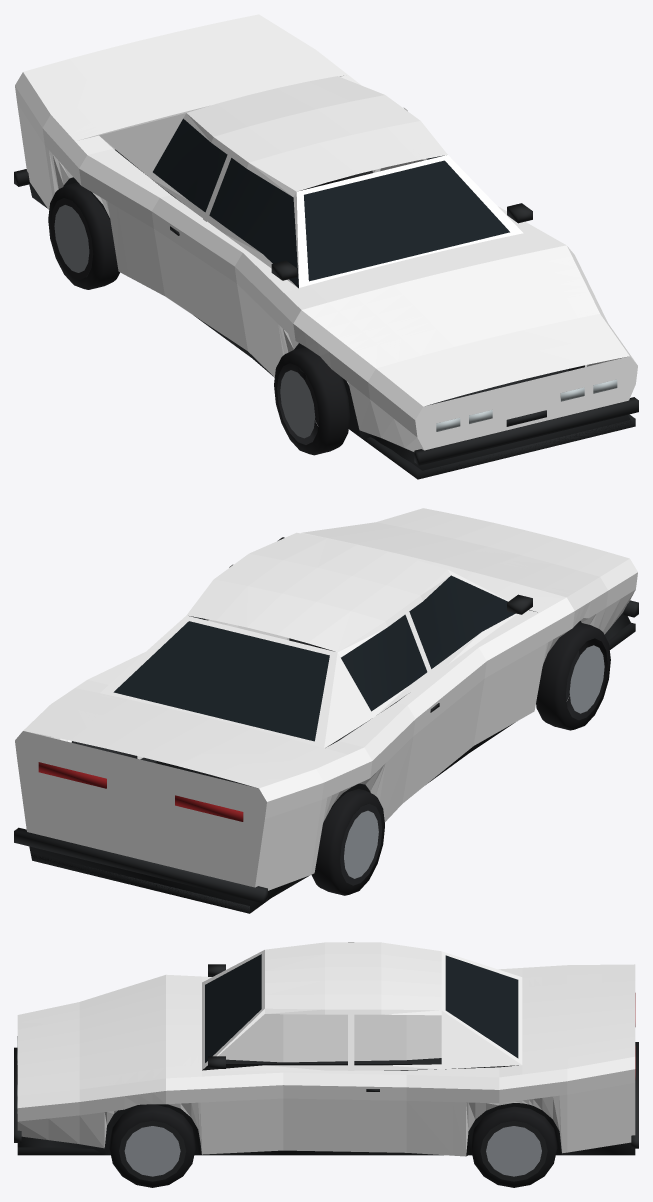
The model's file is wexmoor_carmim.glb.
3 views of the same model, one above another, from view 1: azimuth 30°, elevation 25°; view 2: azimuth 150°, elevation 25°; view 3: azimuth 270°, elevation 25° (orthographic). The views are drawn at different scales.
Visible parts, largest first — view 1: Body_Paint, Body_Details, Mount_FrontLeft_Wheel_Details, Mount_RearLeft_Wheel_Details; view 2: Body_Paint, Body_Details, Mount_FrontLeft_Wheel_Details, Mount_RearLeft_Wheel_Details; view 3: Body_Paint, Body_Details, Mount_FrontRight_Wheel_Details, Mount_RearRight_Wheel_Details.
Boxes of the visible parts, bbox=[...] form: Body_Paint: bbox=[15, 14, 637, 451]; Body_Details: bbox=[14, 118, 638, 479]; Mount_FrontLeft_Wheel_Details: bbox=[274, 347, 350, 455]; Mount_RearLeft_Wheel_Details: bbox=[48, 182, 119, 289]; Body_Paint: bbox=[15, 508, 637, 890]; Body_Details: bbox=[14, 537, 638, 913]; Mount_FrontLeft_Wheel_Details: bbox=[536, 622, 610, 730]; Mount_RearLeft_Wheel_Details: bbox=[311, 789, 384, 895]; Body_Paint: bbox=[17, 942, 635, 1156]; Body_Details: bbox=[14, 954, 638, 1156]; Mount_FrontRight_Wheel_Details: bbox=[109, 1104, 195, 1187]; Mount_RearRight_Wheel_Details: bbox=[471, 1106, 557, 1187].
Bounding box in the file's own units: 1.98 × 1.29 × 4.57.
2 materials, 1 textured.
